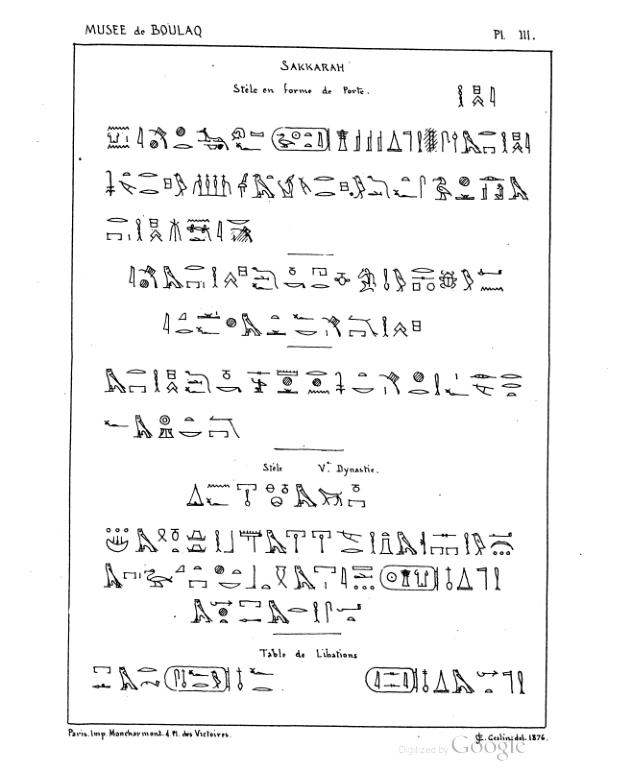circle: (161, 661, 233, 693), (378, 562, 442, 595), (270, 125, 335, 155), (364, 664, 421, 696)
